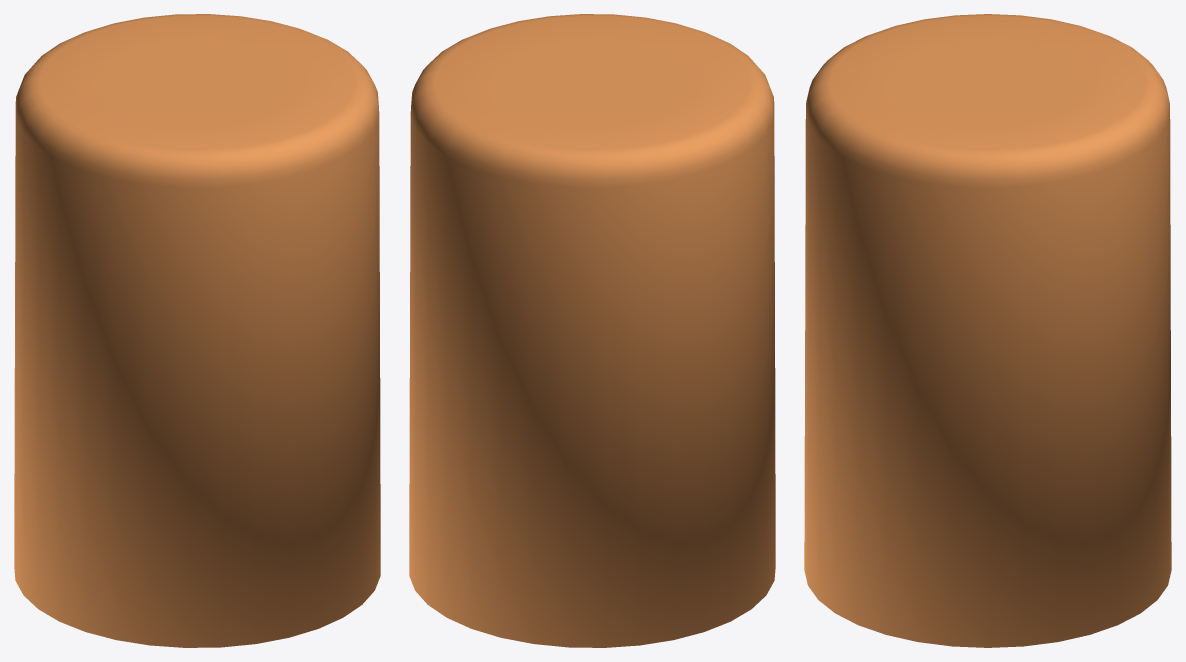
Rendered from Cork04.fbx.
3 renders of one model, left to right at view 1: azimuth 30°, elevation 25°; view 2: azimuth 150°, elevation 25°; view 3: azimuth 270°, elevation 25°, orthographic.
Visible parts, largest first — view 1: Cork4; view 2: Cork4; view 3: Cork4.
Part boxes in pixels (x1,y1,x2,y2): Cork4: (14,14,380,647); Cork4: (409,14,775,647); Cork4: (804,14,1171,647).
Bounding box in the file's own units: 141 × 206 × 141.
